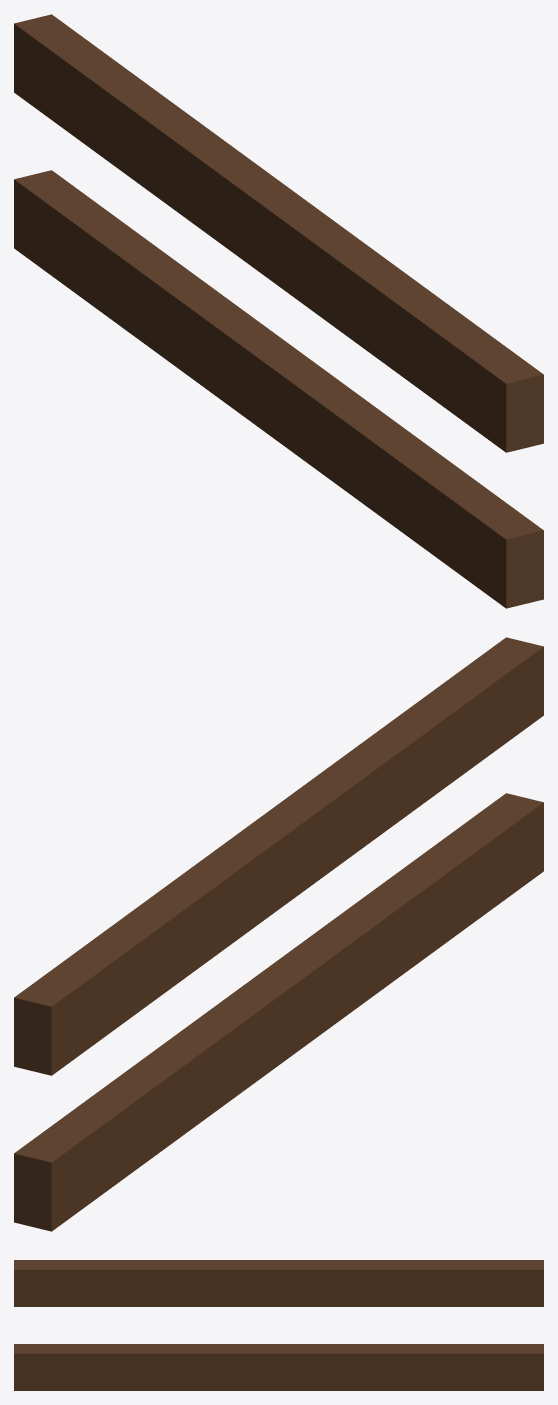
Rendered from FarmFence.glb.
3 views of the same model, one above another, from view 1: azimuth 30°, elevation 25°; view 2: azimuth 150°, elevation 25°; view 3: azimuth 270°, elevation 25° (orthographic). The views are drawn at different scales.
Parts seen in each view (by area): view 1: FarmFence; view 2: FarmFence; view 3: FarmFence.
Boxes of the visible parts, bbox=[...] form: FarmFence: bbox=[14, 14, 543, 608]; FarmFence: bbox=[14, 637, 543, 1231]; FarmFence: bbox=[14, 1260, 543, 1390].
Size of what is drawn, in the model's own units: 0.1171 by 0.6667 by 2.65.
